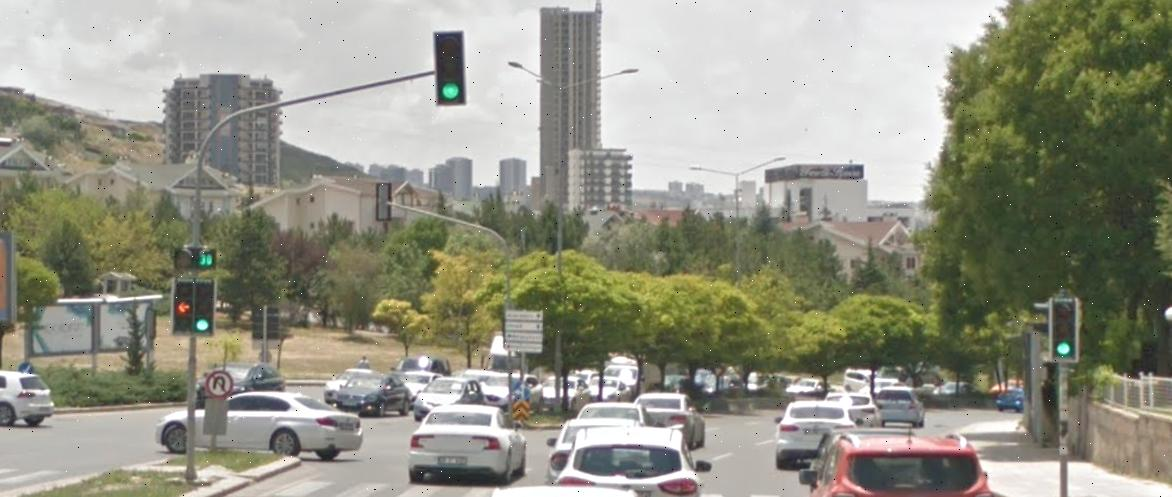greenlight: (433, 26, 469, 109), (1047, 296, 1081, 365), (189, 277, 212, 333)
redlight: (169, 279, 190, 333)
